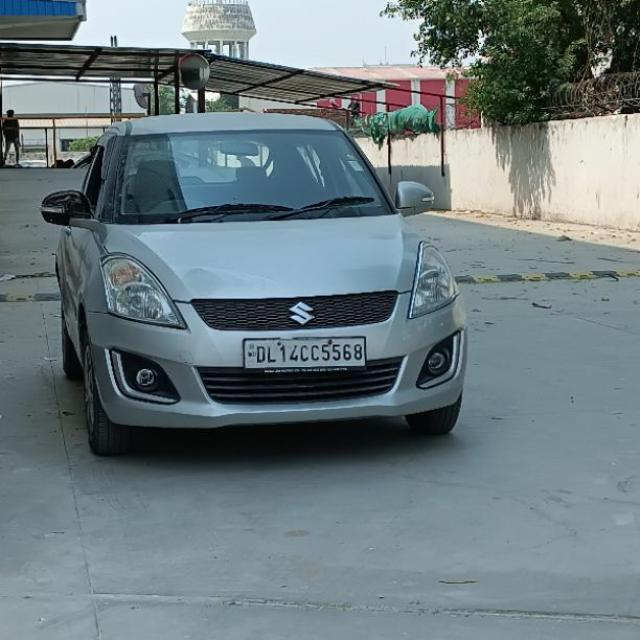license_plate: (241, 335, 367, 371)
